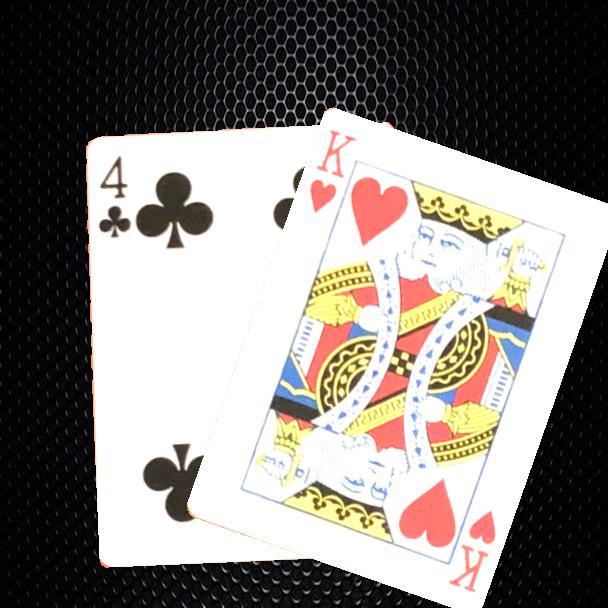c04: (95, 153, 132, 241)
h13: (445, 507, 500, 597), (306, 127, 360, 217)
